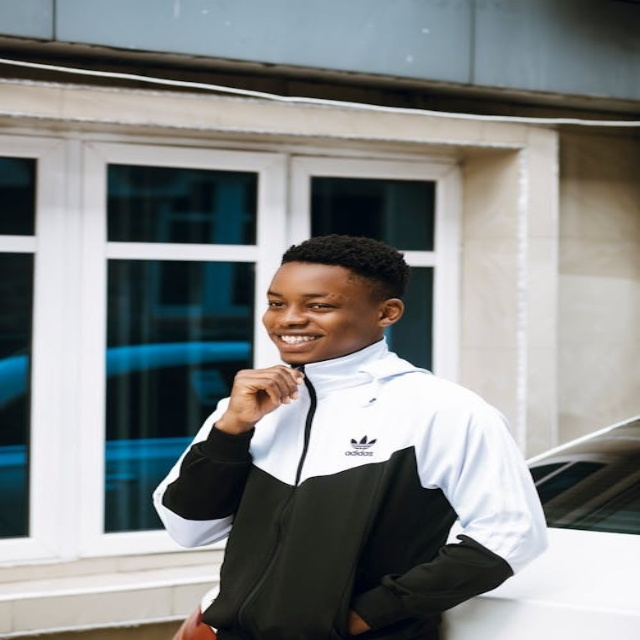Sin_gafas: (264, 289, 355, 314)
Sin_guantes: (232, 365, 311, 426)
Sin_mascara: (271, 327, 333, 357)
